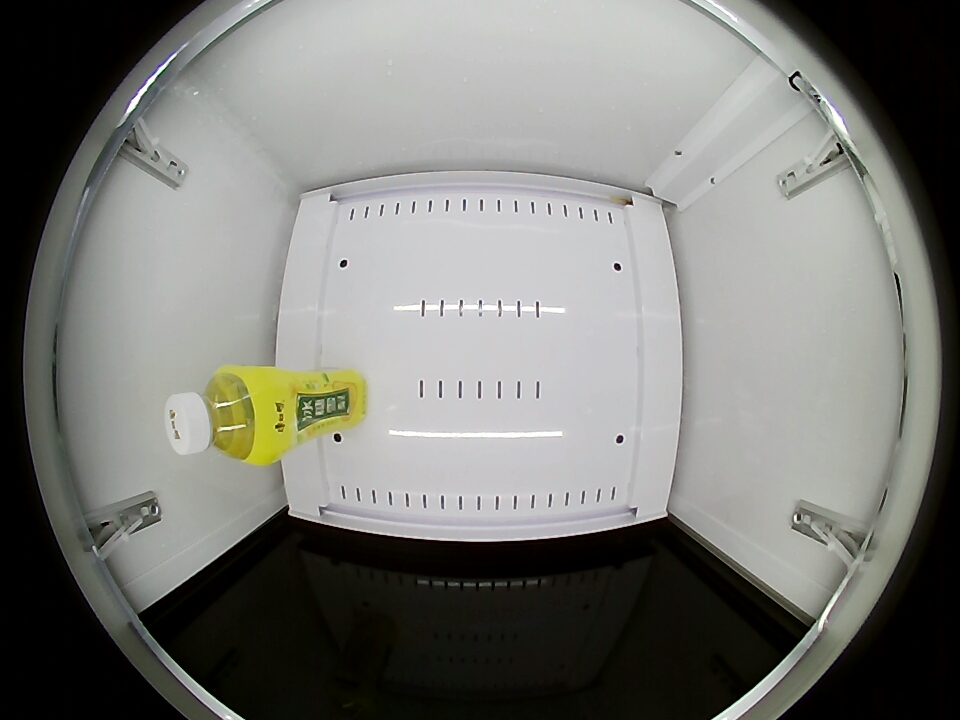bingtangxueli: (165, 365, 279, 465)
